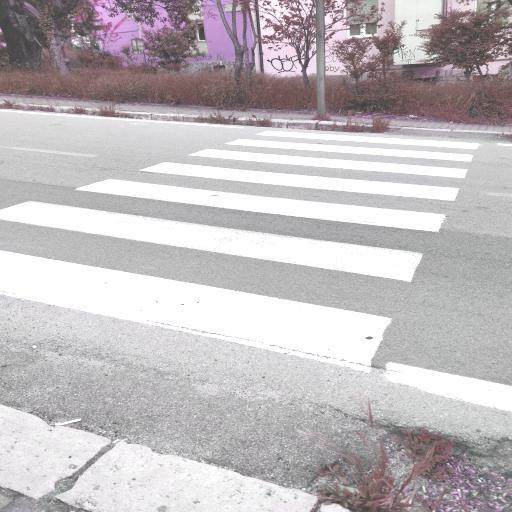crosswalk: (65, 158, 467, 238)
